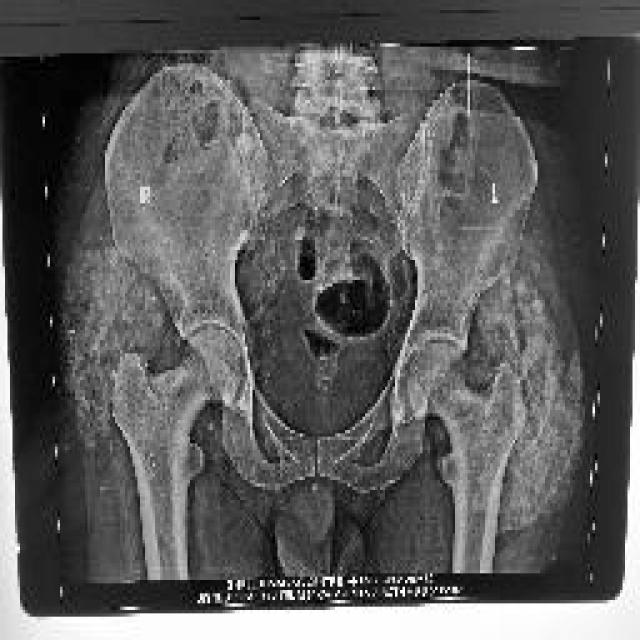bone-cancer: (462, 193, 589, 530), (56, 225, 192, 482)
